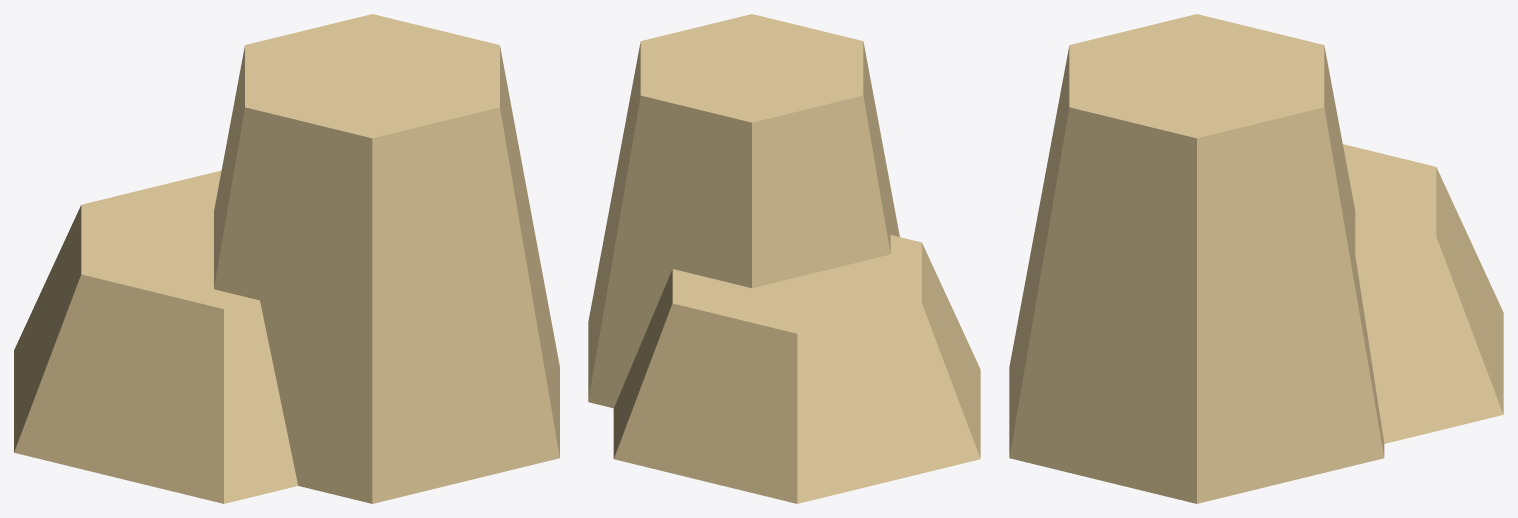
File: resourceStone.dae
3 views of the same model, side by side, from view 1: azimuth 30°, elevation 25°; view 2: azimuth 150°, elevation 25°; view 3: azimuth 270°, elevation 25° (orthographic). The views are drawn at different scales.
Parts seen in each view (by area): view 1: resourceStone; view 2: resourceStone; view 3: resourceStone.
Part boxes in pixels (left/top/right/bottom): resourceStone: left=14, top=14, right=559, bottom=503; resourceStone: left=588, top=14, right=980, bottom=503; resourceStone: left=1009, top=14, right=1503, bottom=503.
Bounding box in the file's own units: 0.1653 × 0.1068 × 0.1422.
